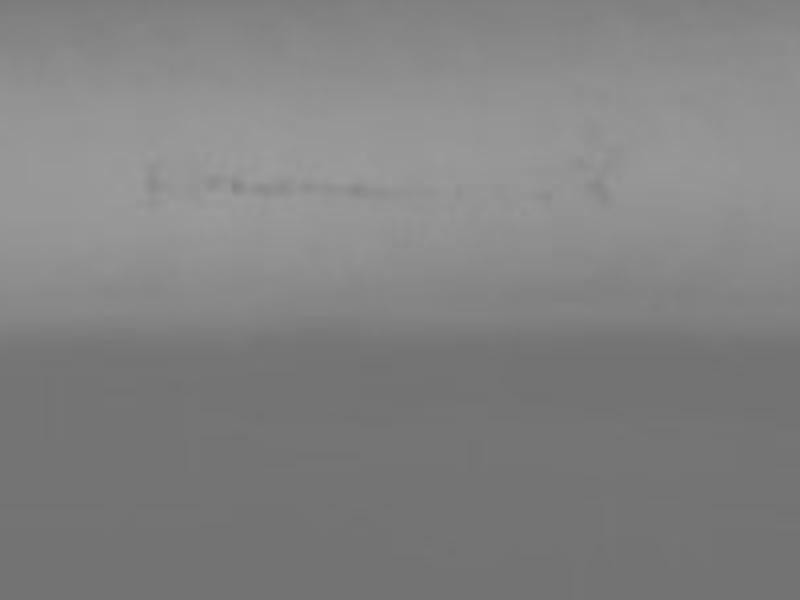defect: (146, 161, 167, 202), (587, 176, 611, 203), (267, 173, 291, 195), (199, 169, 220, 190), (343, 181, 364, 199), (228, 175, 242, 193), (257, 179, 271, 196), (298, 180, 315, 190)
